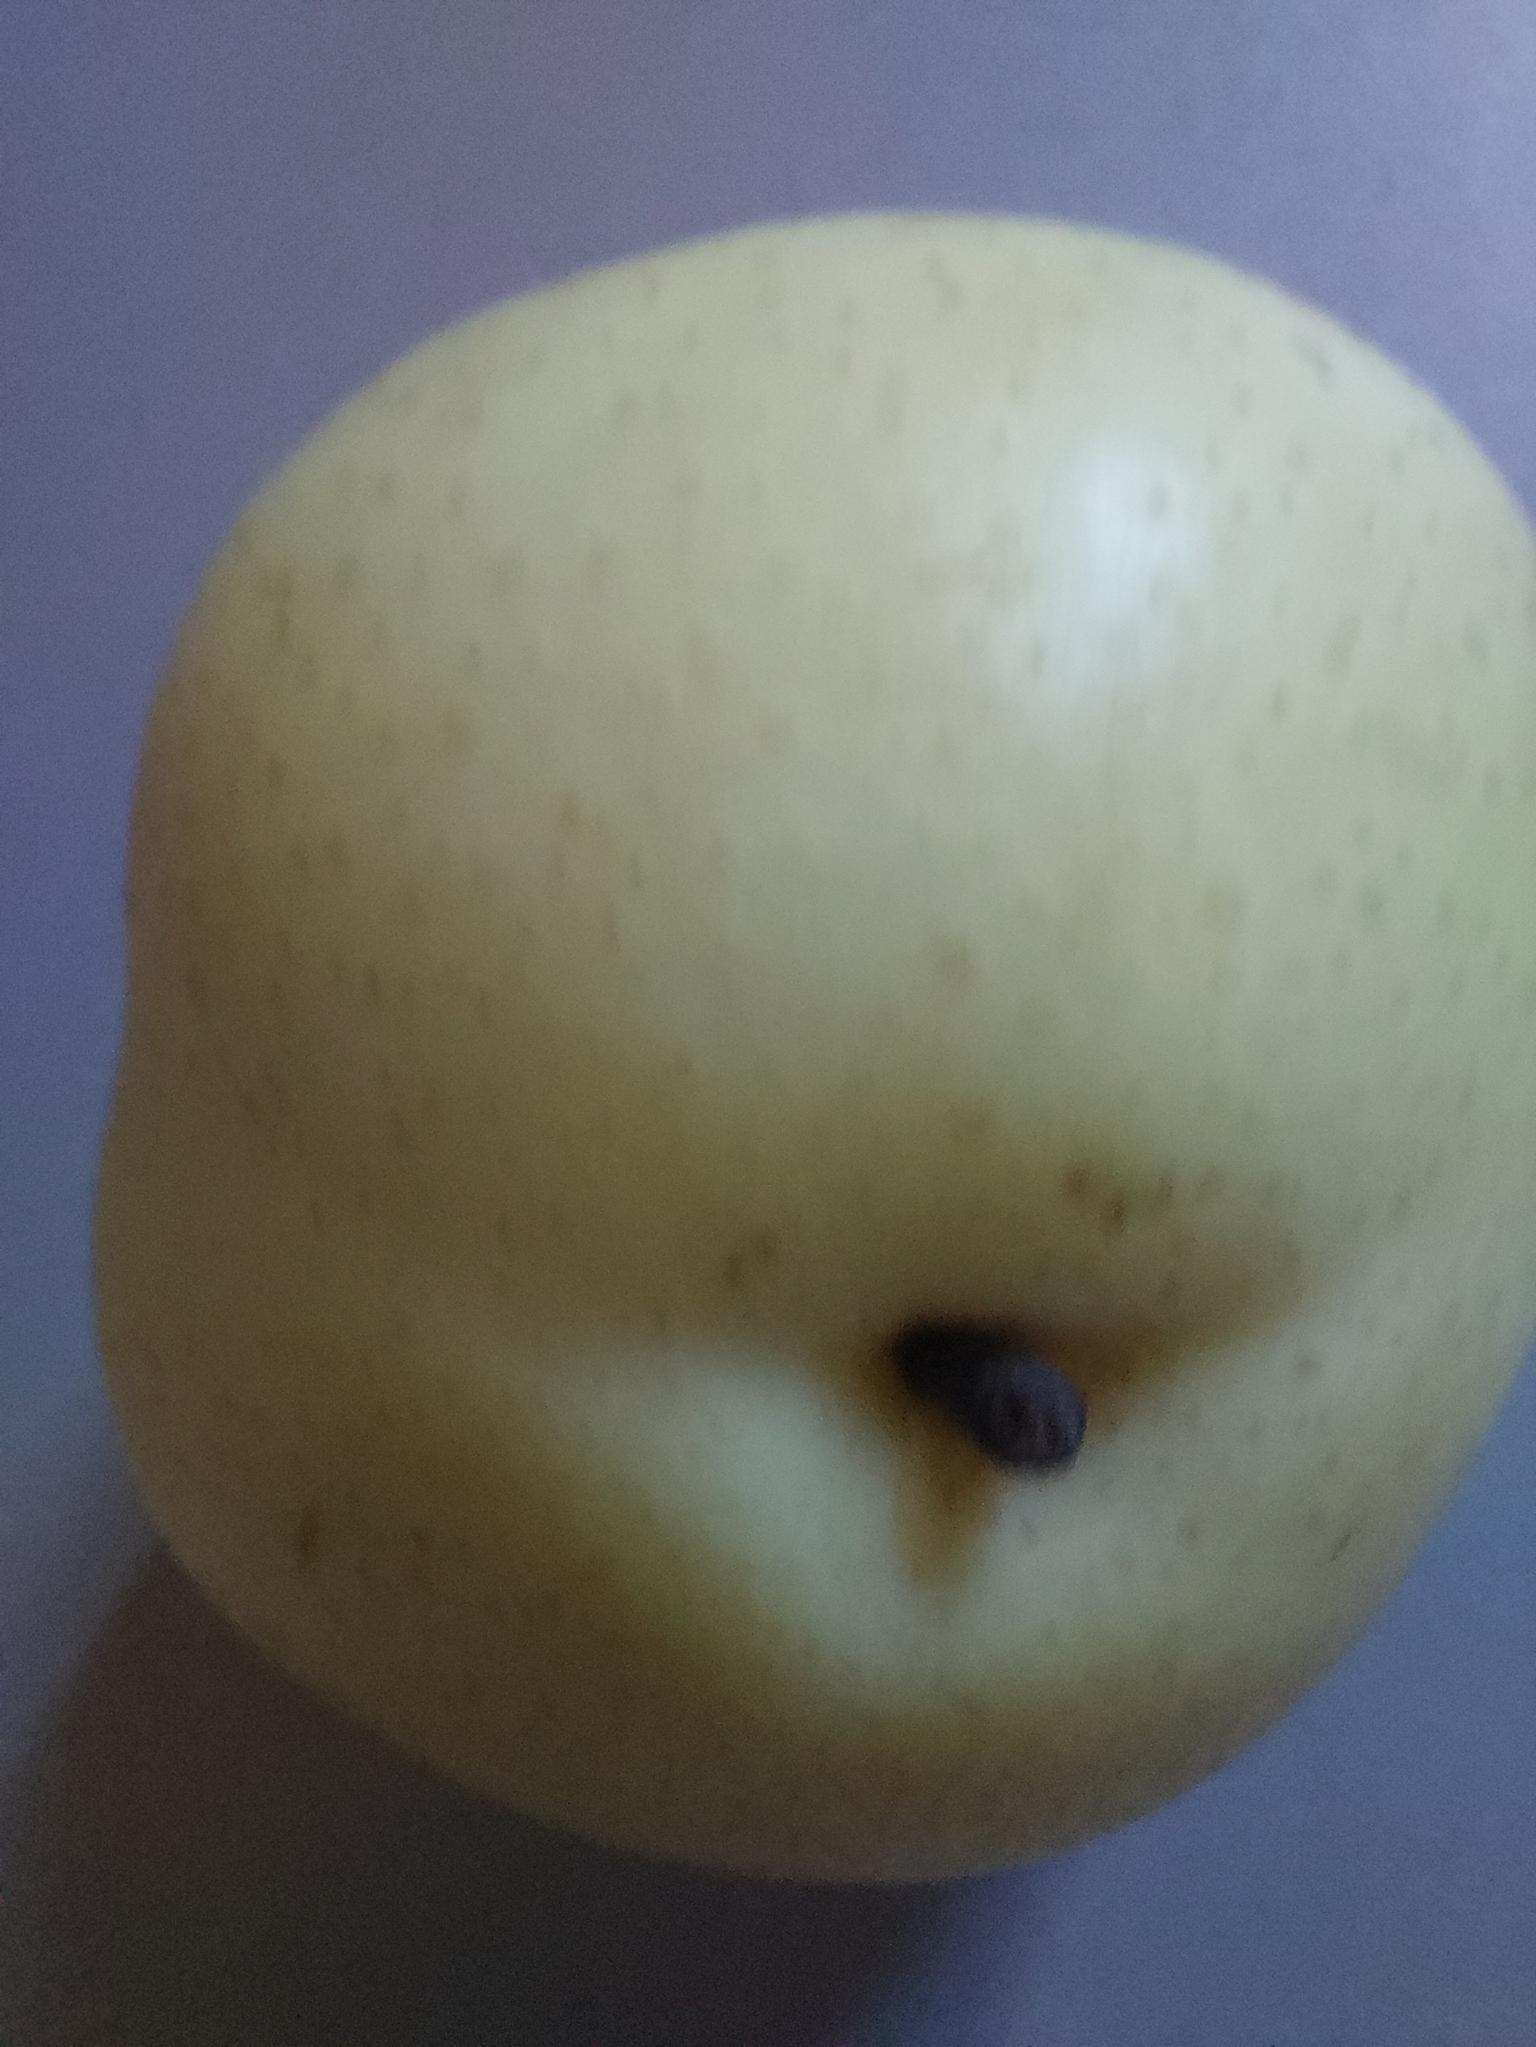Good Pear: (52, 187, 1536, 1989)
